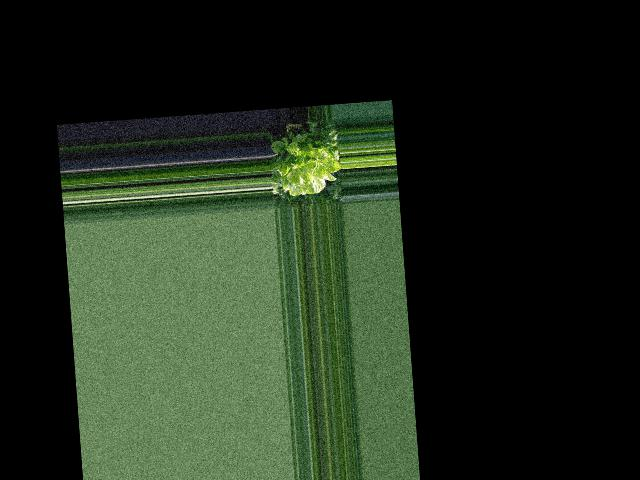lettuce: (270, 133, 335, 196)
